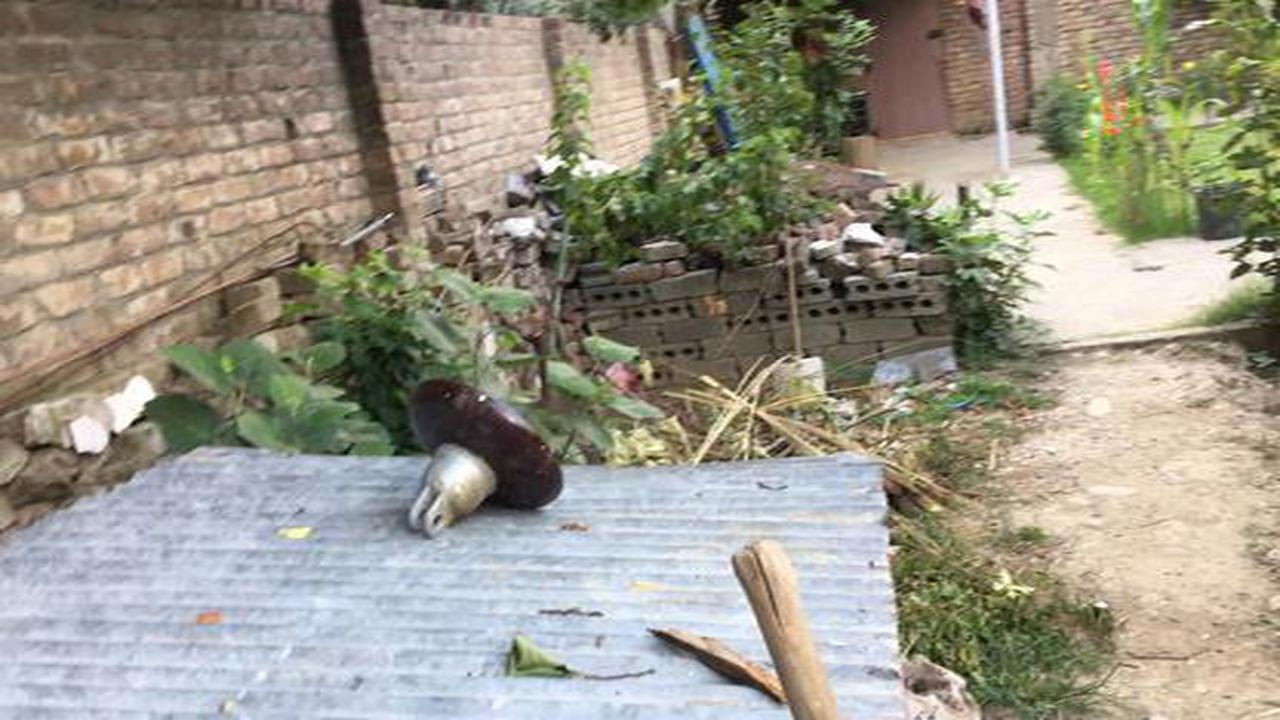insulator_disc: (398, 374, 568, 538)
